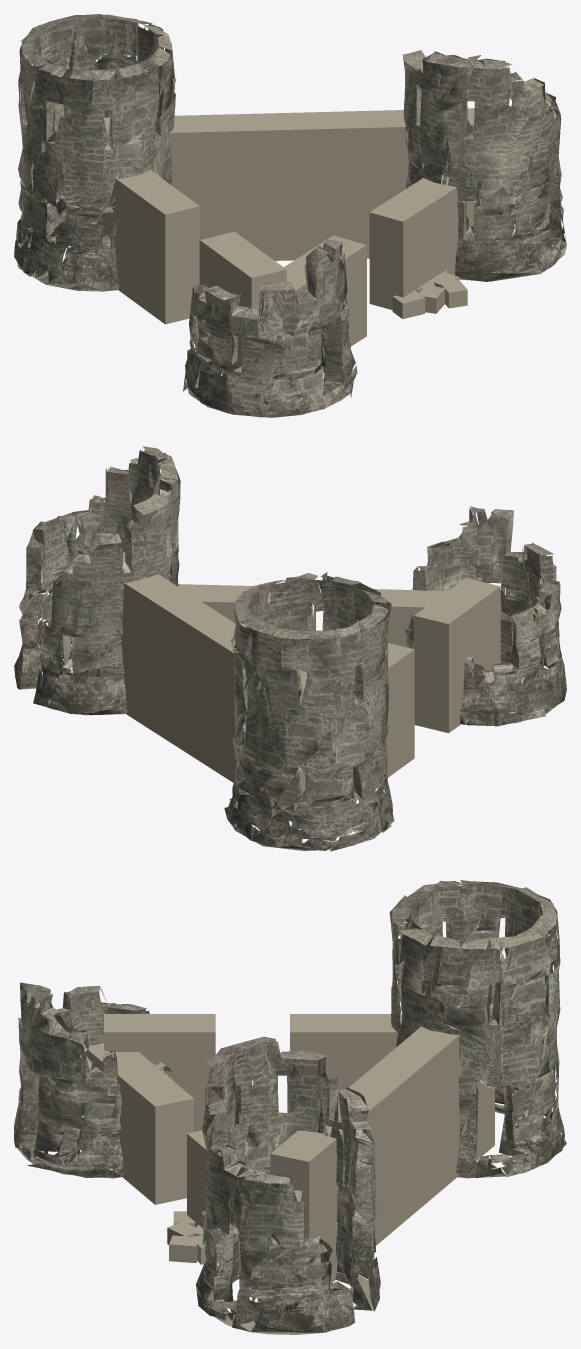
File: a11_tower_ruins.glb
The picture shows the model from 3 angles, top to bottom: view 1: azimuth 30°, elevation 25°; view 2: azimuth 150°, elevation 25°; view 3: azimuth 270°, elevation 25°; orthographic projection. The views are drawn at different scales.
Visible parts, largest first — view 1: body; view 2: body; view 3: body.
Boxes of the visible parts, x1,y1,x2,y2 form: body: (14, 14, 566, 417); body: (14, 446, 566, 851); body: (14, 880, 566, 1334).
Bounding box in the file's own units: 1 × 0.4696 × 0.9955.
4 materials, 3 textured.
